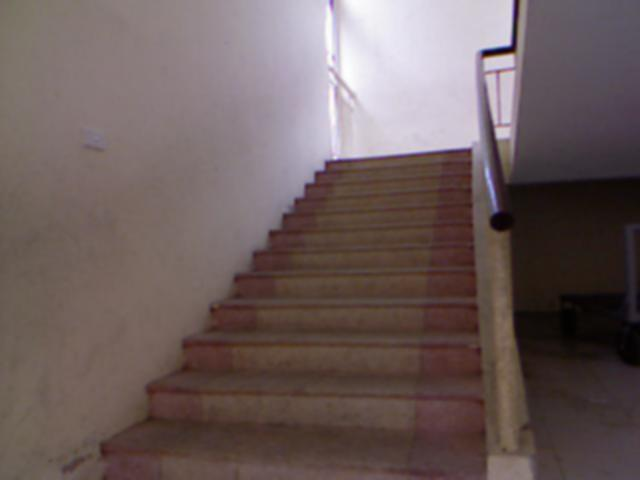Escaleras: (84, 134, 499, 479), (448, 0, 639, 170)
